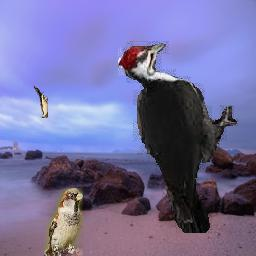Cuckoo: (34, 84, 49, 118)
Sparrow: (45, 188, 84, 256)
Woodpecker: (119, 41, 240, 233)
